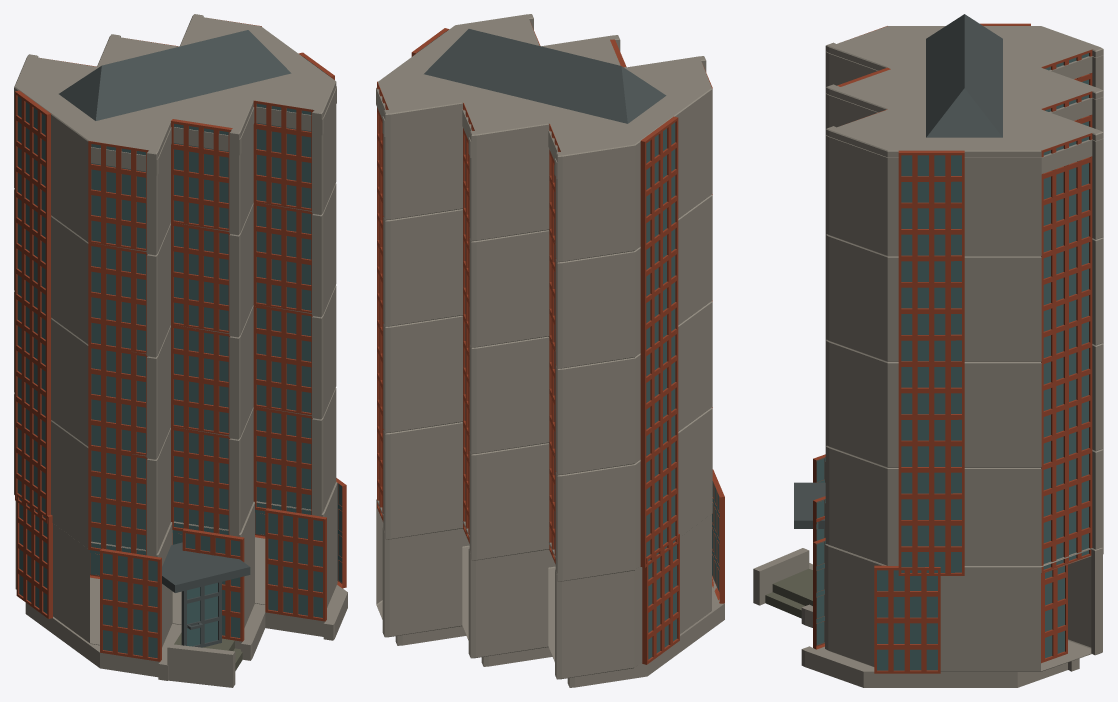
Rendered from Skyscraper.fbx.
The picture shows the model from 3 angles, left to right: view 1: azimuth 30°, elevation 25°; view 2: azimuth 150°, elevation 25°; view 3: azimuth 270°, elevation 25°; orthographic projection. The views are drawn at different scales.
Visible parts, largest first — view 1: Object382; view 2: Object382; view 3: Object382.
Boxes of the visible parts, box(x1,y1,x2,y2) form: Object382: box(14, 14, 347, 687); Object382: box(376, 14, 724, 687); Object382: box(753, 14, 1103, 687).
Bounding box in the file's own units: 682 × 1412 × 780.
